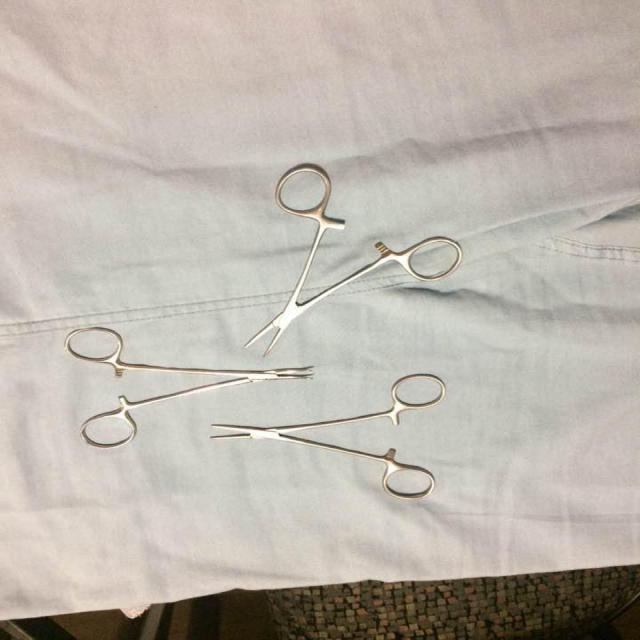Hemostat: (239, 160, 465, 363), (59, 324, 320, 454), (205, 369, 451, 504)
